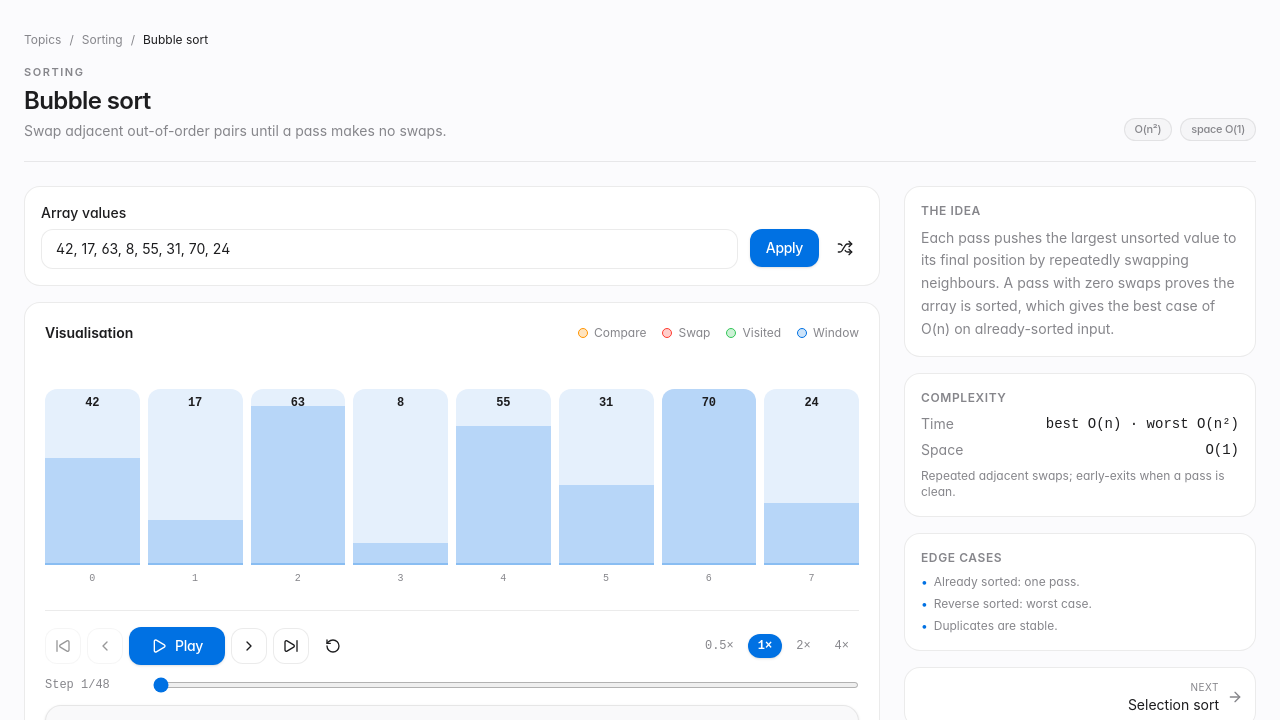
Test: AlgorithmPage › rejects invalid input without crashing the visualiser
Replace the text in the field labelled "Array values" with "1, 2, nope": (389, 248) [41,228,738,268]
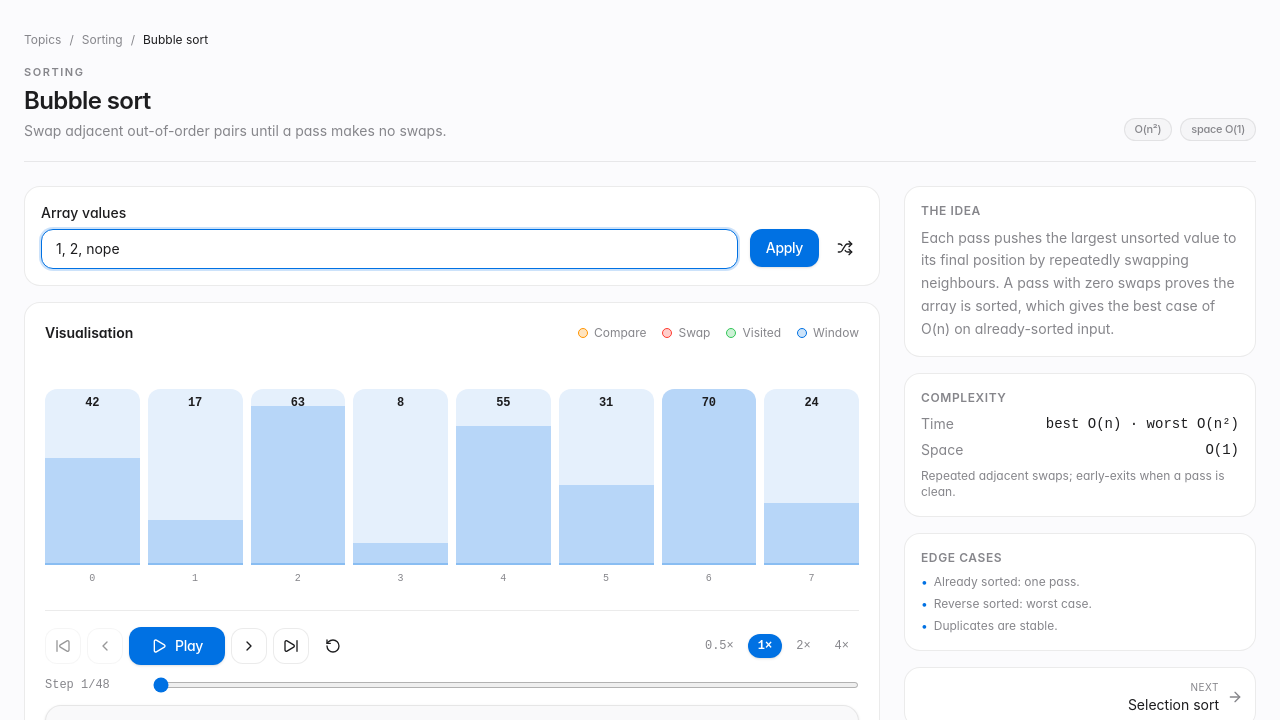
Click the button "Apply": (784, 248) [750,228,819,266]
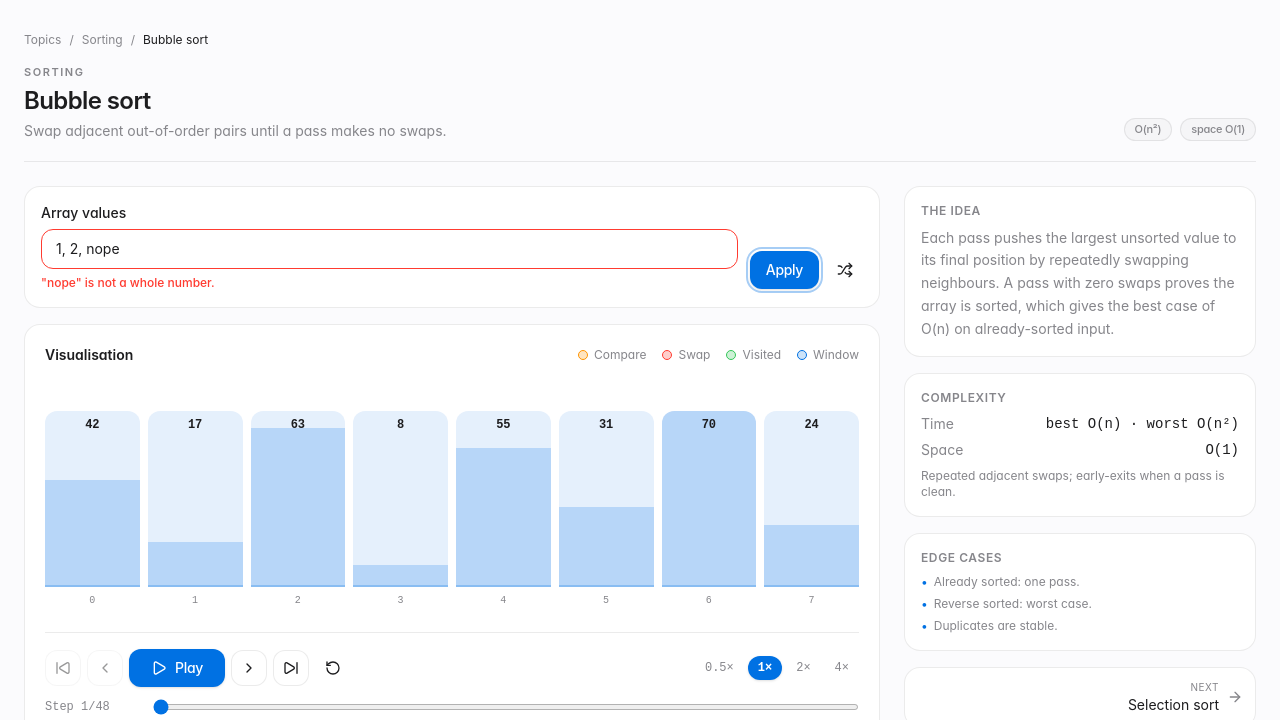
Check: the slider named "Timeline position" is shown, box [153,704,859,710]
Check: the text "\"nope\" is not a whole number." is shown, box [41,274,215,290]
